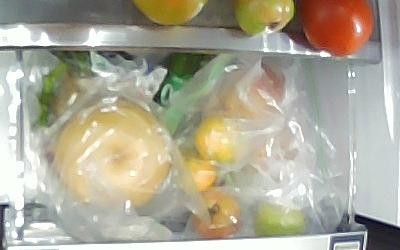peach_vinyl: (220, 64, 284, 121)
pear_vinyl: (54, 100, 173, 211)
tangerine_vinyl: (194, 116, 238, 165), (178, 156, 218, 193)
tomato_vinyl: (191, 192, 244, 239), (255, 199, 305, 237)
